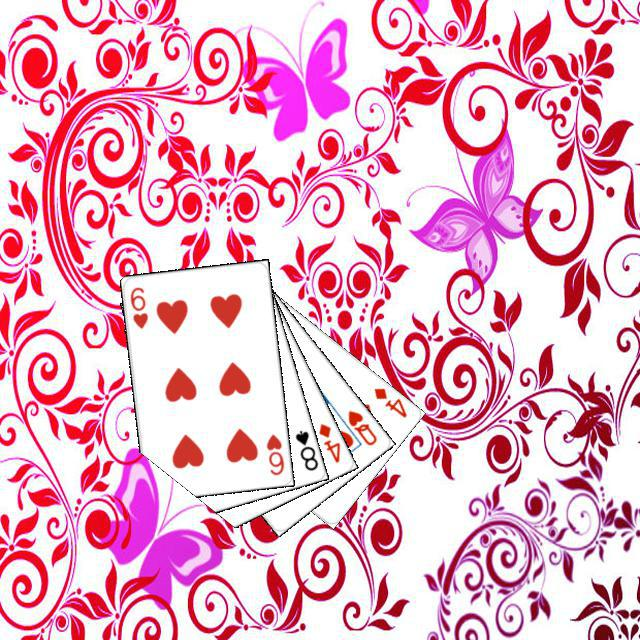4d: (369, 383, 408, 419), (314, 418, 342, 464)
6h: (261, 429, 286, 477), (125, 282, 150, 330)
8s: (290, 425, 319, 472)
Qh: (343, 405, 379, 447)
